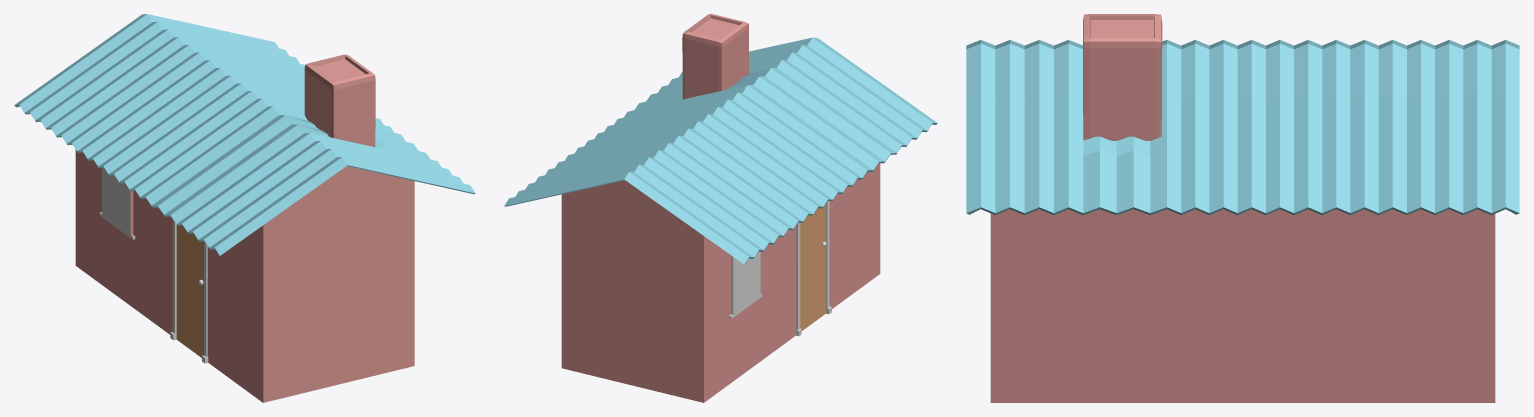
Rendered from House.fbx.
The picture shows the model from 3 angles, left to right: view 1: azimuth 30°, elevation 25°; view 2: azimuth 150°, elevation 25°; view 3: azimuth 270°, elevation 25°; orthographic projection. The views are drawn at different scales.
Parts seen in each view (by area): view 1: Cube; view 2: Cube; view 3: Cube.
Part boxes in pixels (bbox=[...]): Cube: bbox=[14, 14, 475, 402]; Cube: bbox=[504, 14, 937, 402]; Cube: bbox=[966, 14, 1519, 402].
Bounding box in the file's own units: 100 × 100 × 139.
